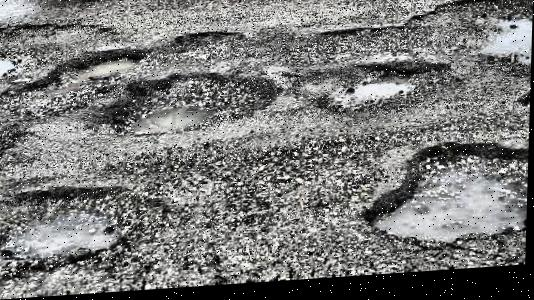pothole: (359, 141, 529, 255), (0, 176, 183, 275), (313, 0, 532, 72), (98, 68, 280, 145), (0, 47, 142, 132), (292, 62, 460, 123), (0, 18, 116, 52), (164, 30, 244, 58)
